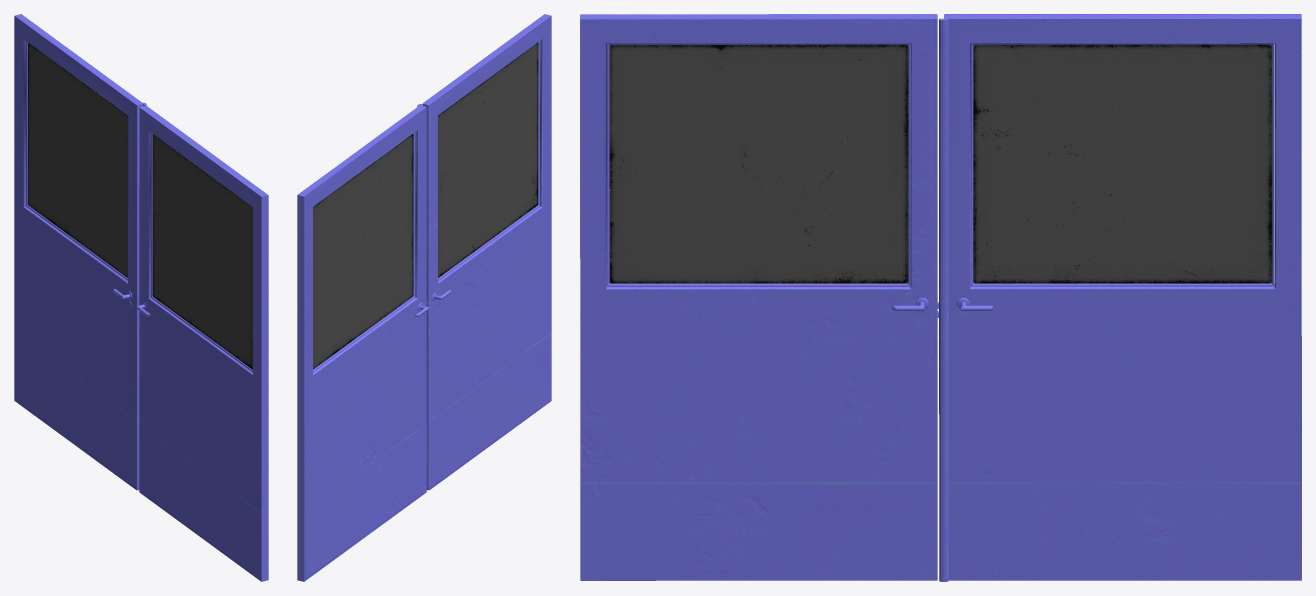
The model's file is Door Double Type C.fbx.
3 views of the same model, side by side, from view 1: azimuth 30°, elevation 25°; view 2: azimuth 150°, elevation 25°; view 3: azimuth 270°, elevation 25° (orthographic). The views are drawn at different scales.
Parts seen in each view (by area): view 1: DBWLeft, DBWRight; view 2: DBWRight, DBWLeft; view 3: DBWRight, DBWLeft.
Boxes of the visible parts, box(x1,y1,x2,y2) form: DBWLeft: box(136, 105, 268, 581); DBWRight: box(14, 14, 146, 490); DBWRight: box(297, 104, 429, 581); DBWLeft: box(422, 14, 551, 490); DBWRight: box(939, 14, 1301, 581); DBWLeft: box(580, 14, 938, 580).
Size of the model in its own units: 14.64 by 229 by 267.
